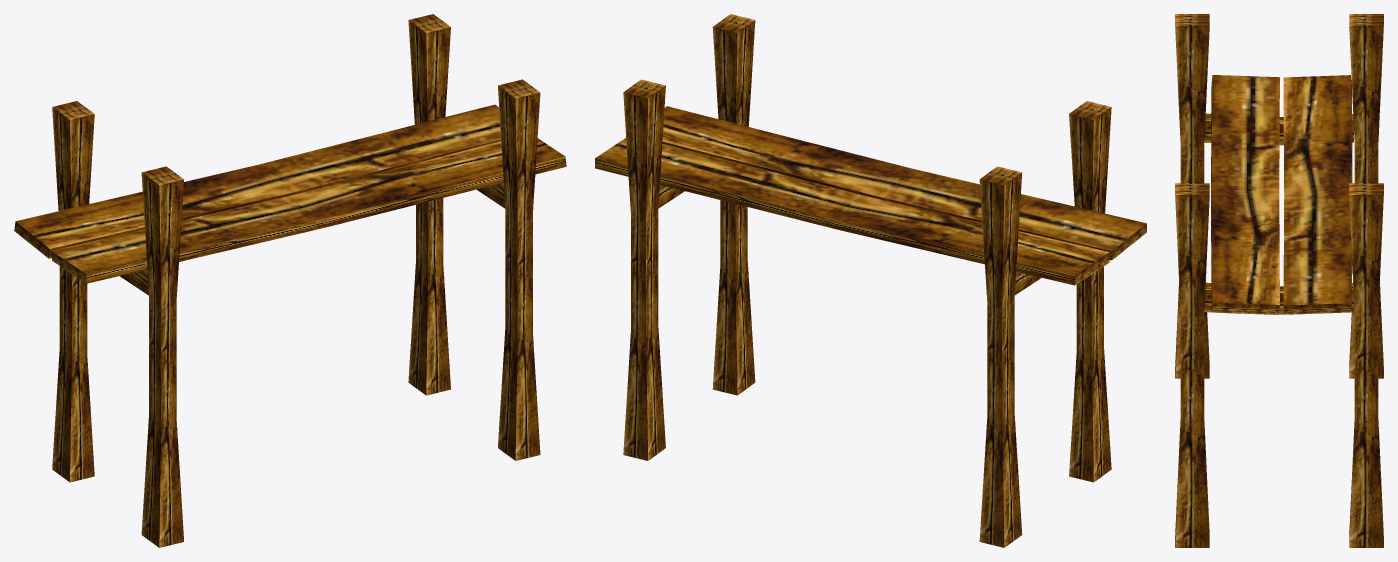
File: MAINHALL_SCAFOLDING.fbx
The picture shows the model from 3 angles, left to right: view 1: azimuth 30°, elevation 25°; view 2: azimuth 150°, elevation 25°; view 3: azimuth 270°, elevation 25°; orthographic projection. The views are drawn at different scales.
Visible parts, largest first — view 1: MAINHALL_SCAFOLDING; view 2: MAINHALL_SCAFOLDING; view 3: MAINHALL_SCAFOLDING.
Part boxes in pixels (x1,y1,x2,y2): MAINHALL_SCAFOLDING: (14,14,566,547); MAINHALL_SCAFOLDING: (595,14,1146,547); MAINHALL_SCAFOLDING: (1175,14,1383,547).
Size of the model in its own units: 31578 by 22761 by 12199.
Materials: 1 (1 with a texture image).
